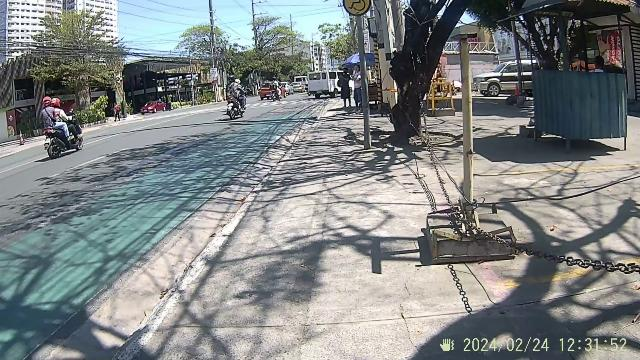motorcycle: (42, 114, 84, 158)
street_sign: (344, 0, 376, 154)
street_vendor_cart: (530, 0, 630, 156)
